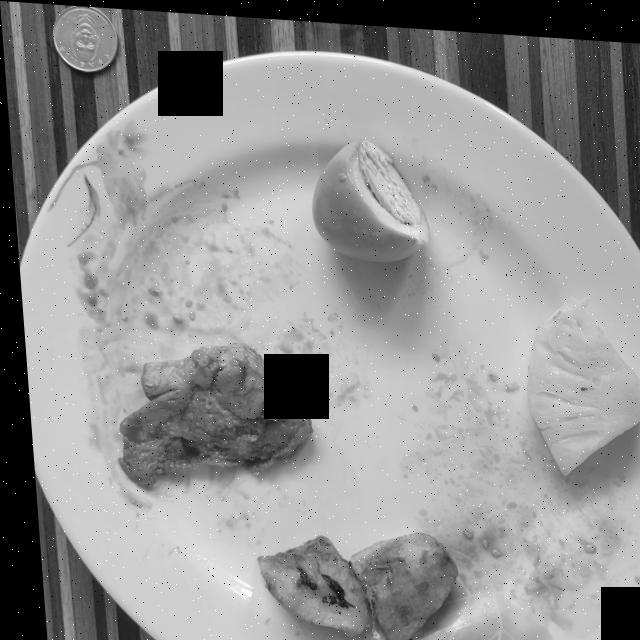coin: (53, 4, 117, 69)
creamy tofu: (112, 339, 306, 484)
fried potato: (250, 526, 449, 640)
pineapple: (521, 290, 640, 467)
soy egg: (309, 133, 427, 256)
